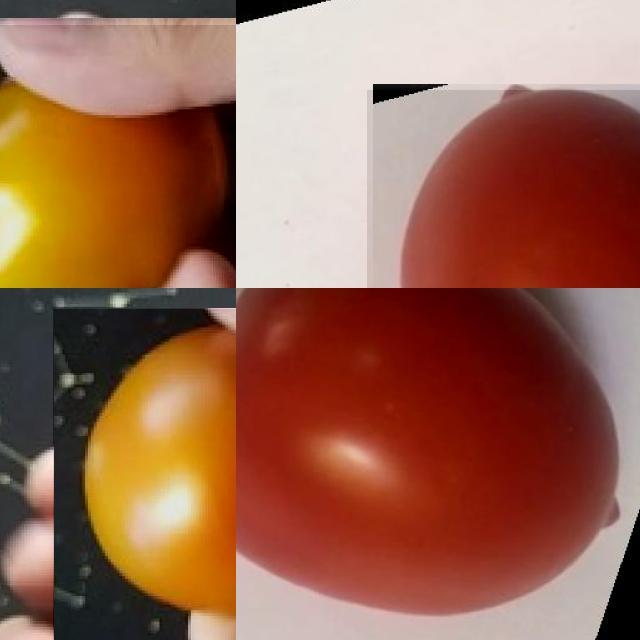Fresh Tomato: (236, 288, 640, 640), (53, 308, 236, 640), (366, 90, 640, 288)
Rotten Tomato: (0, 24, 236, 288)
